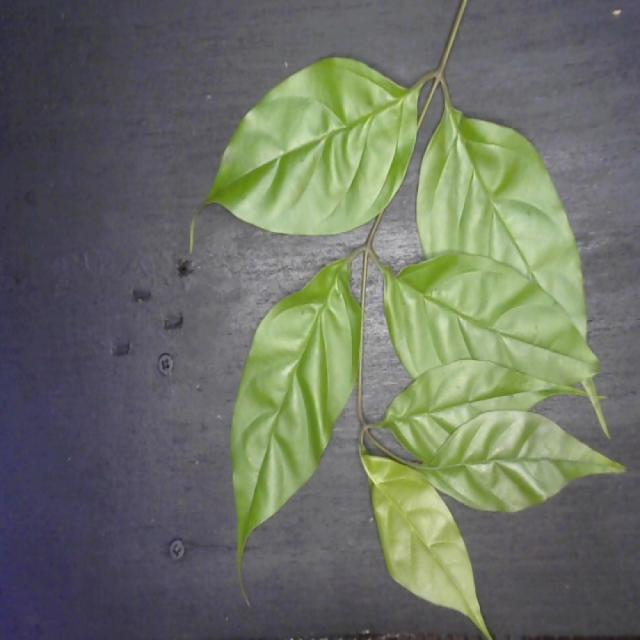biodegradable: (182, 50, 640, 639)
